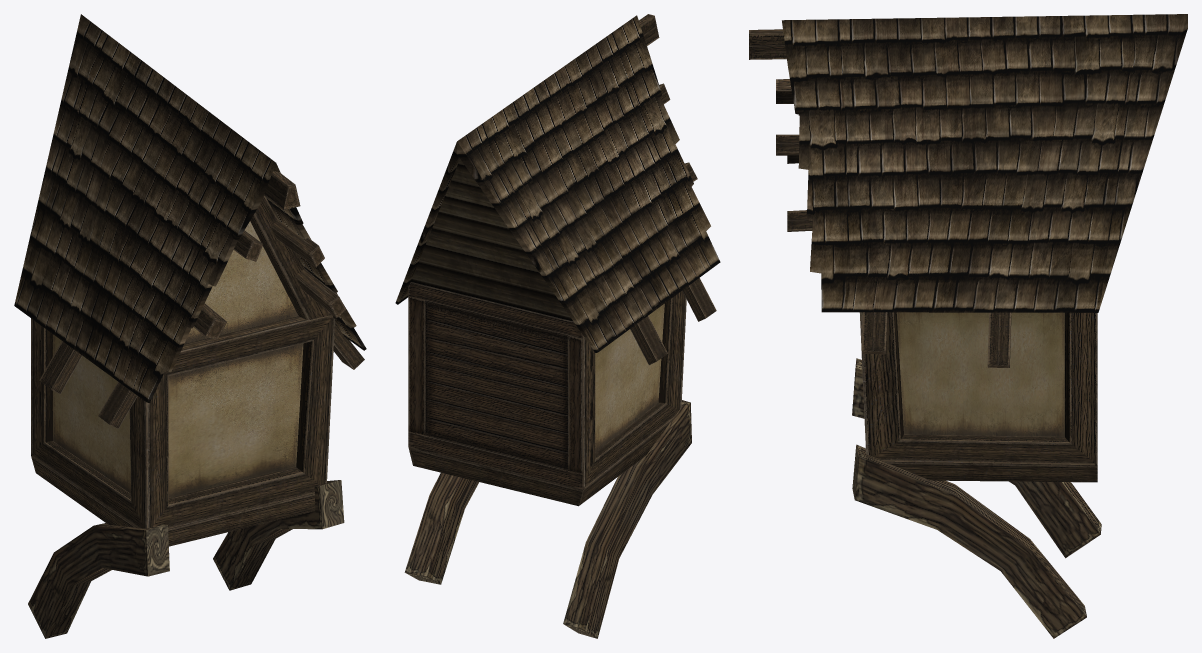
File: Window_a03.fbx
The picture shows the model from 3 angles, left to right: view 1: azimuth 30°, elevation 25°; view 2: azimuth 150°, elevation 25°; view 3: azimuth 270°, elevation 25°; orthographic projection. The views are drawn at different scales.
Visible parts, largest first — view 1: Window_a03; view 2: Window_a03; view 3: Window_a03.
Part boxes in pixels (box(x1,y1,x2,y2)): Window_a03: box(14, 14, 366, 638); Window_a03: box(395, 14, 720, 638); Window_a03: box(749, 14, 1187, 638).
Bounding box in the file's own units: 3.76 × 7.68 × 5.25.
